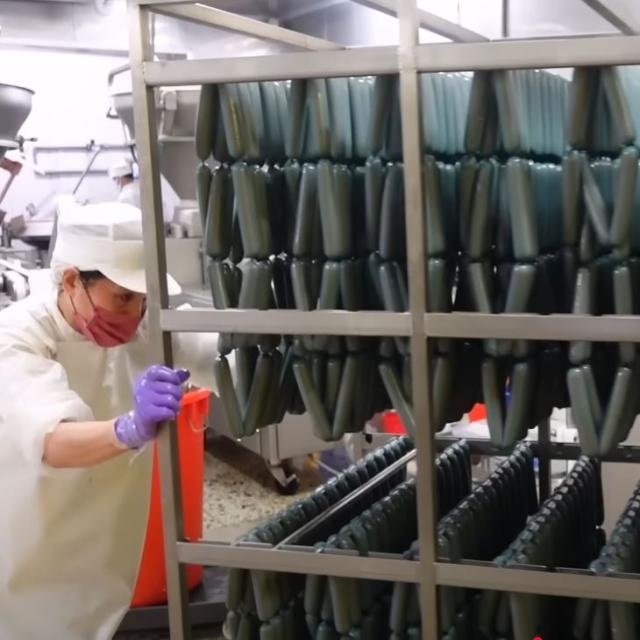gloved_hand: (110, 361, 192, 456)
